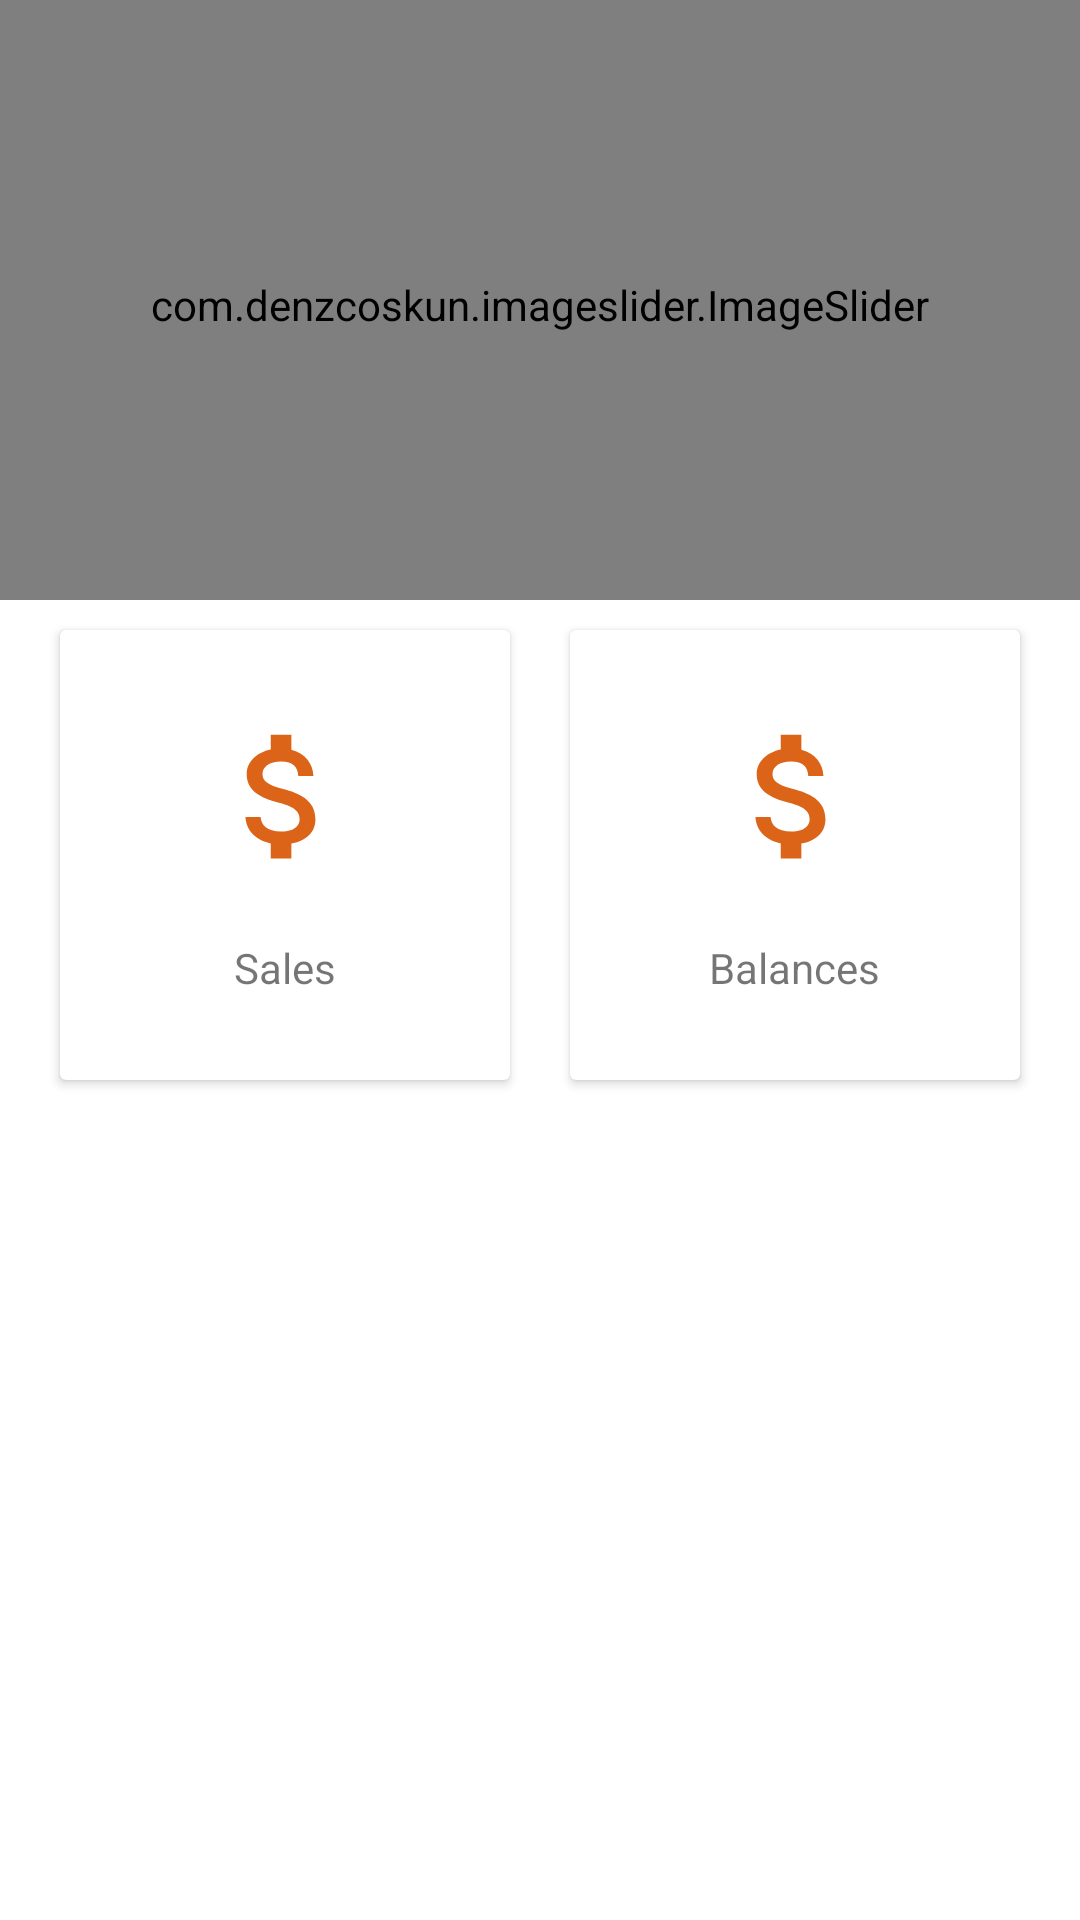

Named icons in this screenshot (1080*1920) and their bounding boxes, bbox=[x1, y1, x2, y2]:
money: bbox=[245, 734, 316, 859], bbox=[755, 734, 826, 859]
